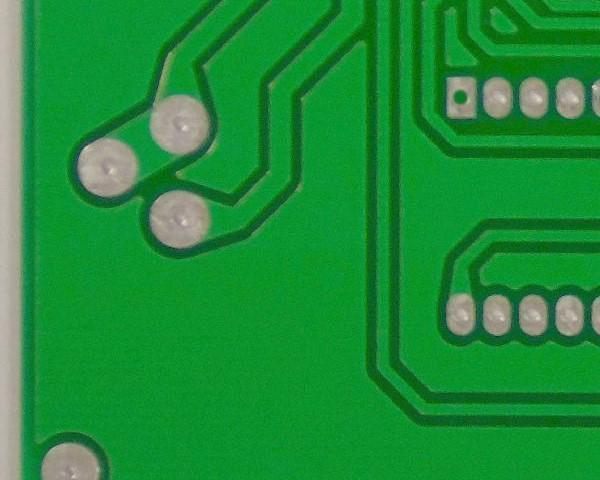missing hole: (441, 72, 482, 121)
